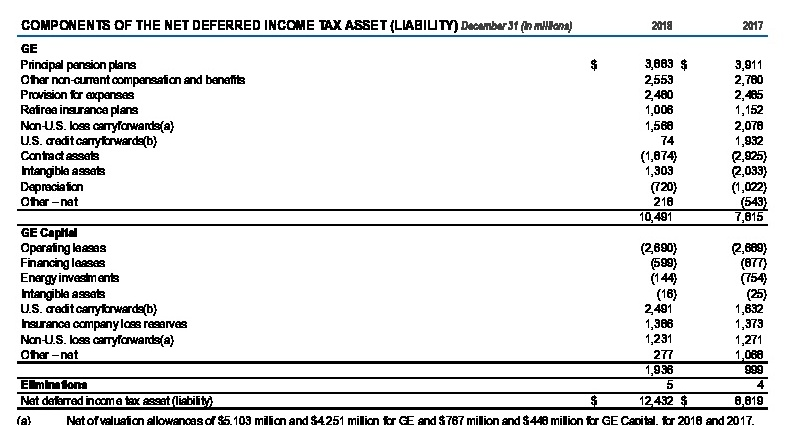table: (0, 0, 785, 425)
